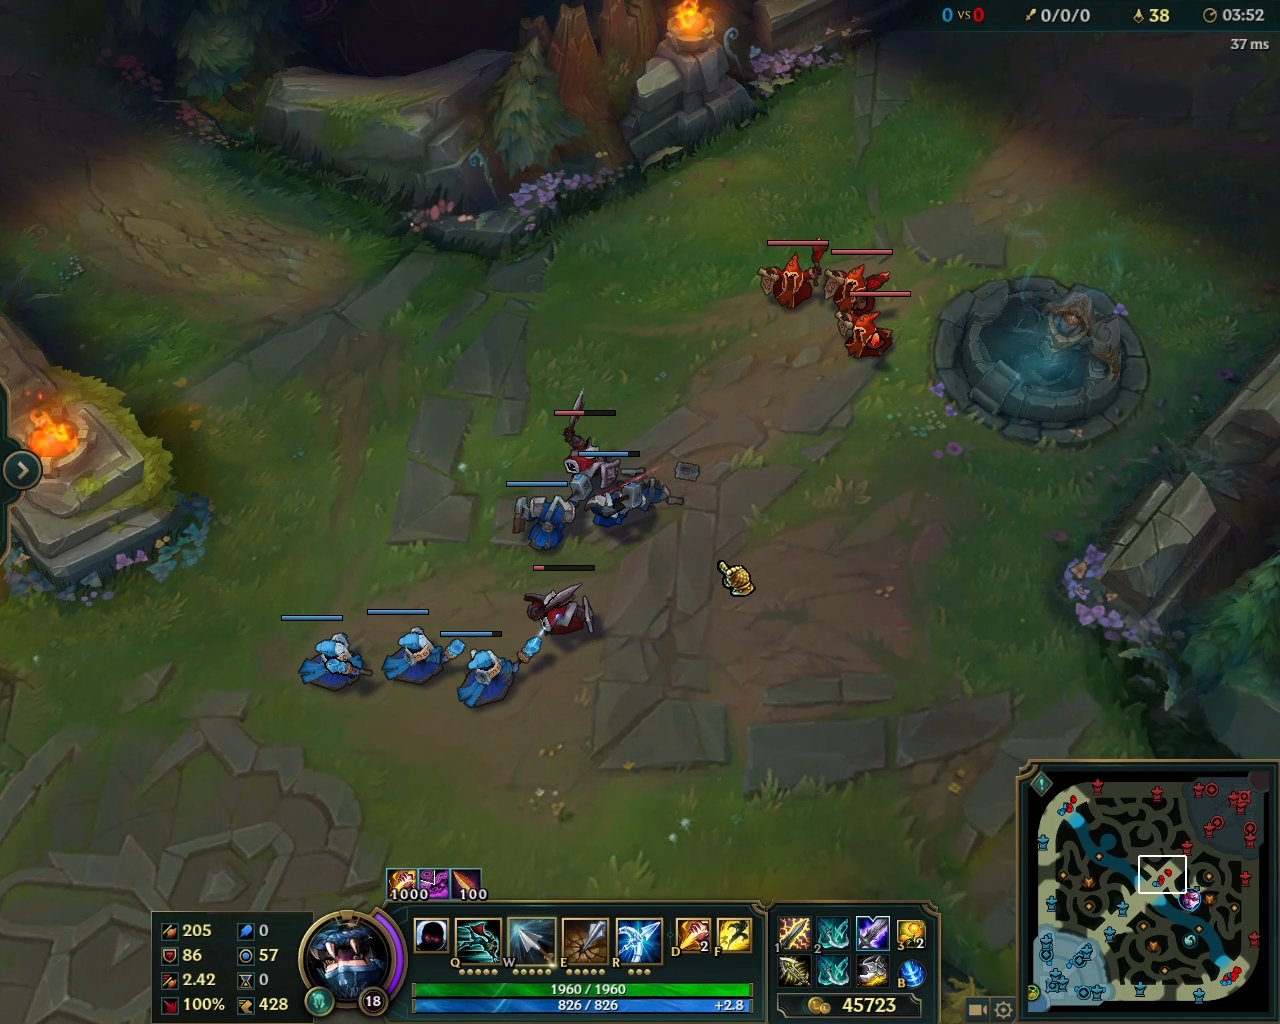EnemyMinion: (553, 385, 629, 495), (523, 562, 601, 644), (753, 238, 834, 312), (831, 290, 908, 363), (823, 248, 895, 315)
